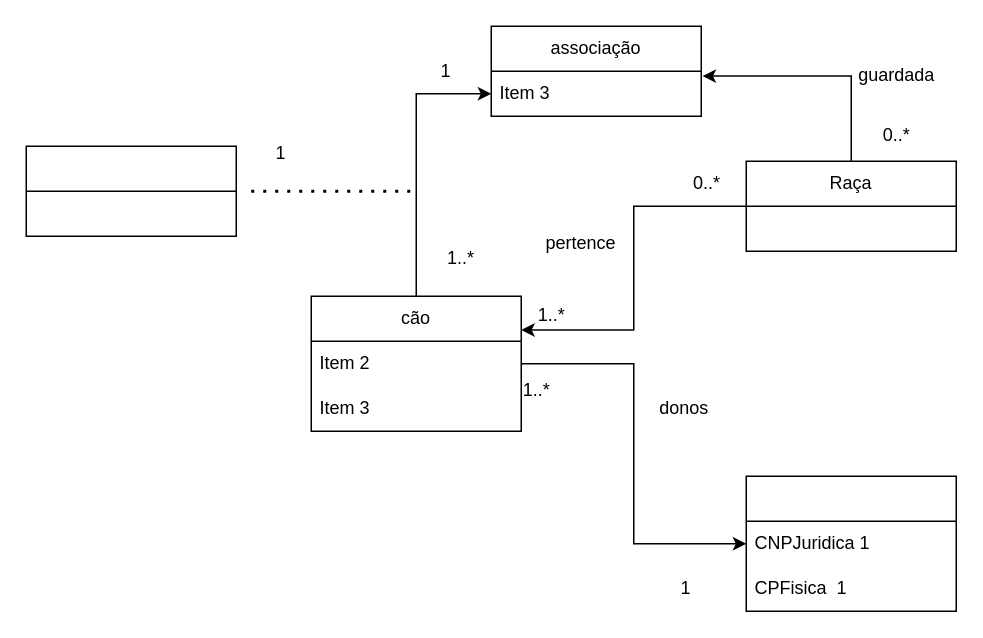
The diagram is 983 pixels wide and 638 high, and some of its shapes have lost their labels. Here are the shapes that lost their labels. From the top down, the box of each, then its label:
(25, 145, 236, 236): Registrado
(745, 475, 956, 611): Socios
